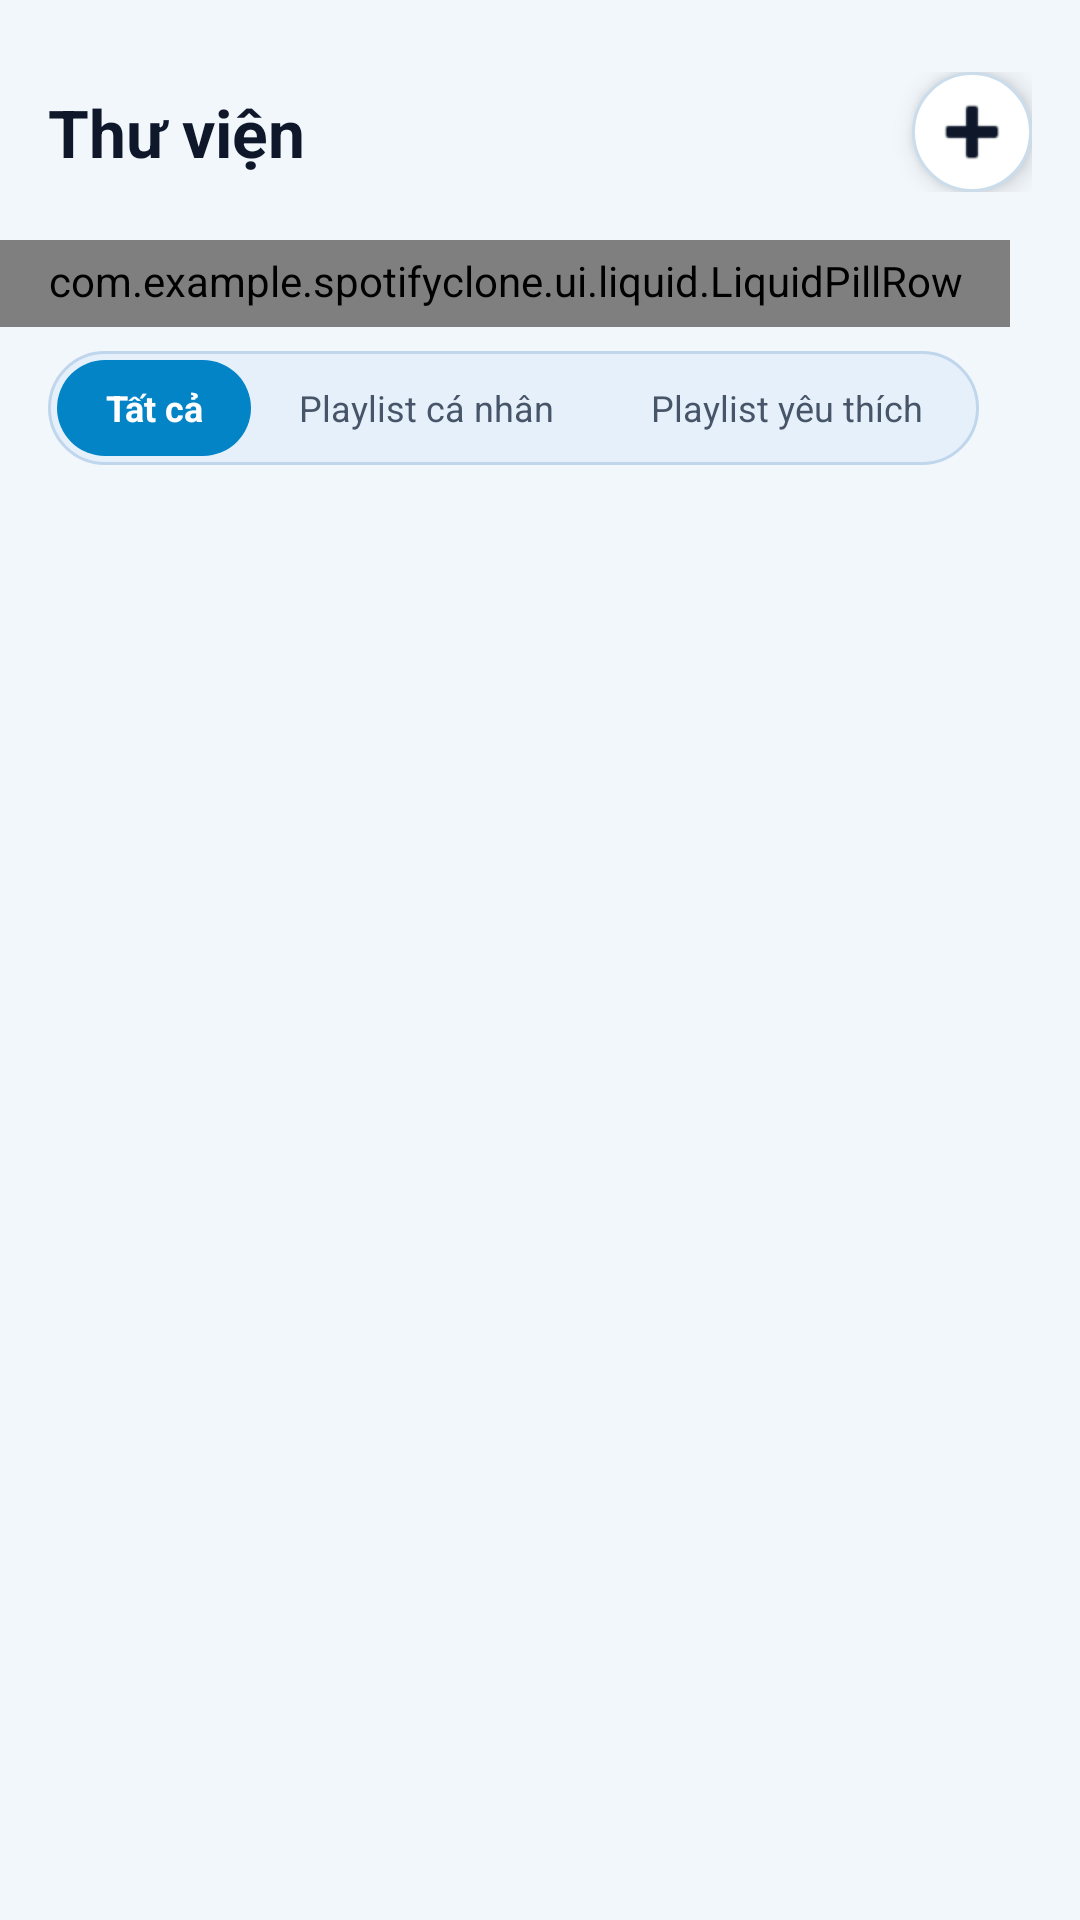

Where icons sit on this 1080*1920 app screen, as (x1, y1, x2, y2):
Create Playlist: (912, 72, 1032, 192)
